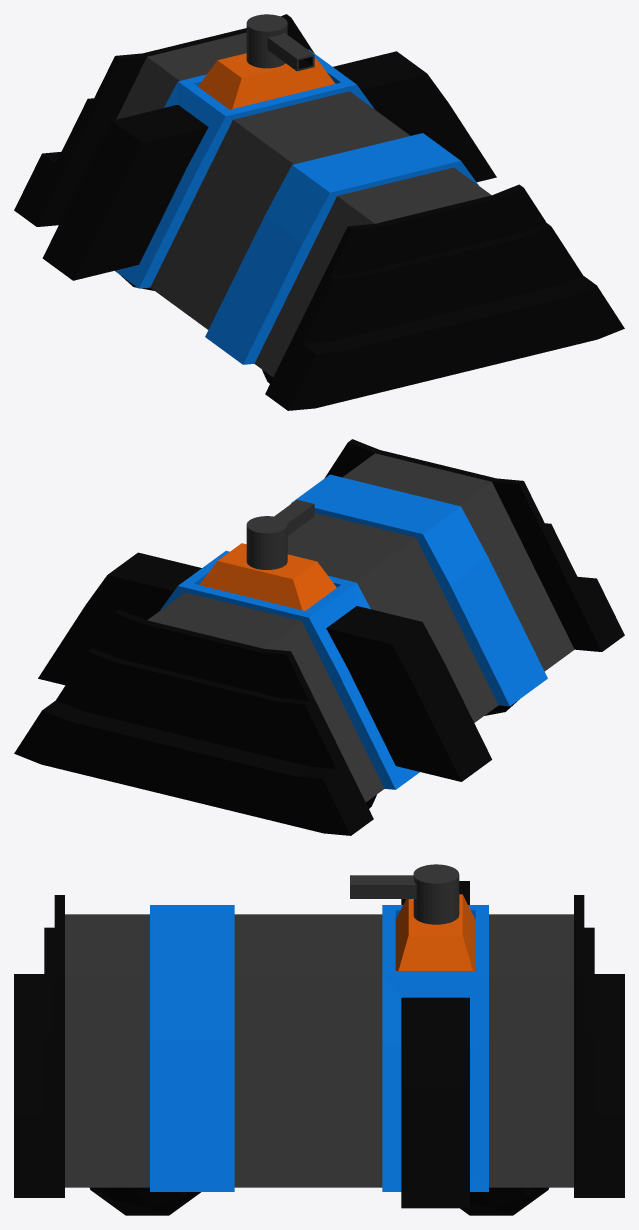
File: npc_tank.fbx
3 renders of one model, top to bottom at view 1: azimuth 30°, elevation 25°; view 2: azimuth 150°, elevation 25°; view 3: azimuth 270°, elevation 25°, orthographic. The views are drawn at different scales.
Visible parts, largest first — view 1: Tank, Tank.001; view 2: Tank, Tank.001; view 3: Tank, Tank.001.
Boxes of the visible parts, bbox=[...] form: Tank: bbox=[14, 14, 624, 410]; Tank.001: bbox=[246, 14, 314, 71]; Tank: bbox=[14, 439, 624, 835]; Tank.001: bbox=[246, 499, 314, 569]; Tank: bbox=[14, 881, 624, 1215]; Tank.001: bbox=[350, 864, 459, 924].
Bounding box in the file's own units: 90.11 × 53.64 × 101.
